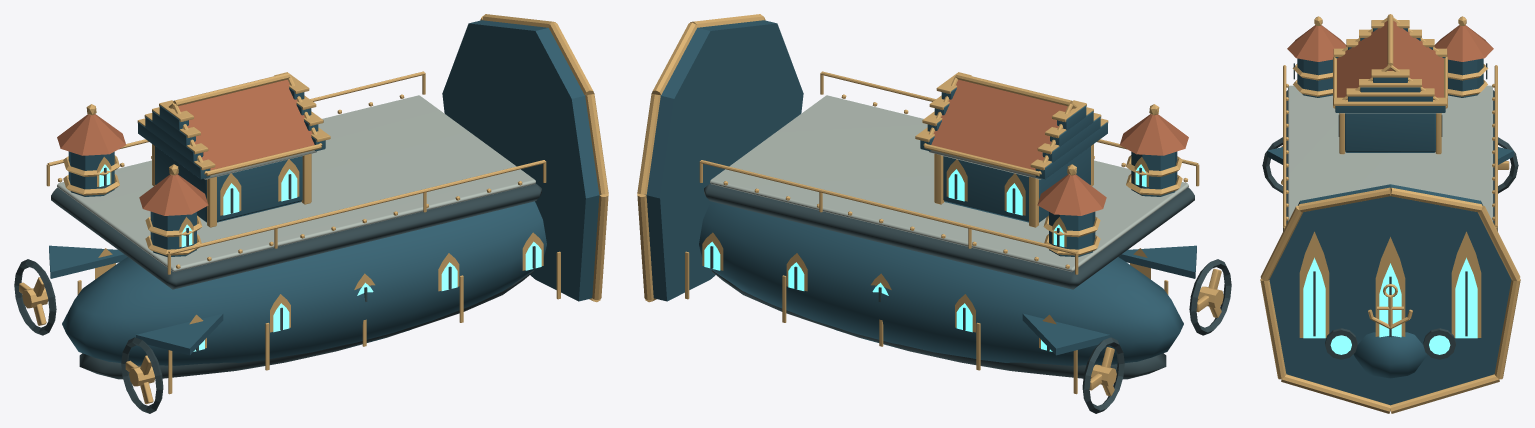
Rendered from enemy-warden.glb.
The picture shows the model from 3 angles, left to right: view 1: azimuth 30°, elevation 25°; view 2: azimuth 150°, elevation 25°; view 3: azimuth 270°, elevation 25°; orthographic projection. The views are drawn at different scales.
Visible parts, largest first — view 1: enemy-warden / Paint | Prussian night enamel, enemy-warden / Paint | armored limestone, enemy-warden / Fittings | worn maritime brass, enemy-warden / Hull | charcoal iron, enemy-warden / Copper | fired red roof, enemy-warden / Lamp | charged glacial blue; view 2: enemy-warden / Paint | Prussian night enamel, enemy-warden / Paint | armored limestone, enemy-warden / Fittings | worn maritime brass, enemy-warden / Hull | charcoal iron, enemy-warden / Copper | fired red roof, enemy-warden / Lamp | charged glacial blue; view 3: enemy-warden / Paint | Prussian night enamel, enemy-warden / Fittings | worn maritime brass, enemy-warden / Paint | armored limestone, enemy-warden / Copper | fired red roof, enemy-warden / Lamp | charged glacial blue, enemy-warden / Hull | charcoal iron.
Part boxes in pixels (x1,y1,x2,y2): enemy-warden / Paint | Prussian night enamel: (49, 20, 600, 365); enemy-warden / Paint | armored limestone: (57, 95, 535, 271); enemy-warden / Fittings | worn maritime brass: (19, 14, 608, 404); enemy-warden / Hull | charcoal iron: (14, 167, 541, 413); enemy-warden / Copper | fired red roof: (57, 79, 314, 215); enemy-warden / Lamp | charged glacial blue: (99, 164, 541, 351); enemy-warden / Paint | Prussian night enamel: (645, 20, 1196, 365); enemy-warden / Paint | armored limestone: (710, 95, 1188, 271); enemy-warden / Fittings | worn maritime brass: (637, 14, 1223, 396); enemy-warden / Hull | charcoal iron: (704, 167, 1231, 413); enemy-warden / Copper | fired red roof: (931, 79, 1188, 215); enemy-warden / Lamp | charged glacial blue: (704, 164, 1146, 351); enemy-warden / Paint | Prussian night enamel: (1267, 28, 1513, 405); enemy-warden / Fittings | worn maritime brass: (1260, 14, 1520, 413); enemy-warden / Paint | armored limestone: (1288, 85, 1492, 221); enemy-warden / Copper | fired red roof: (1287, 21, 1493, 97); enemy-warden / Lamp | charged glacial blue: (1303, 257, 1477, 354); enemy-warden / Hull | charcoal iron: (1262, 63, 1518, 359).
Bounding box in the file's own units: 7.82 × 4.07 × 3.98.
